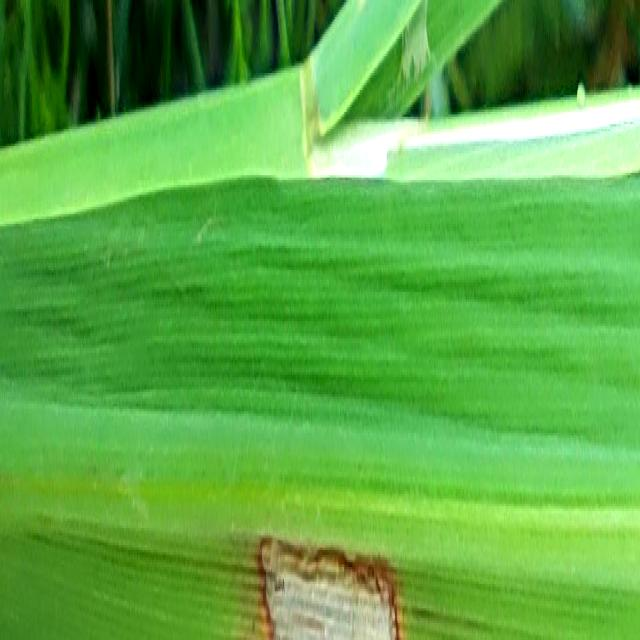LEAF BLAST: (255, 529, 406, 640)
